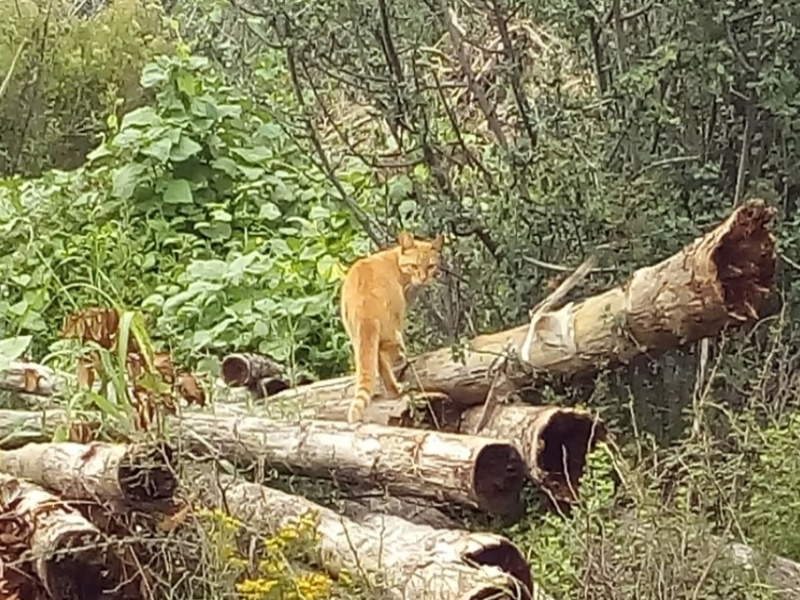cat: (341, 224, 445, 427)
